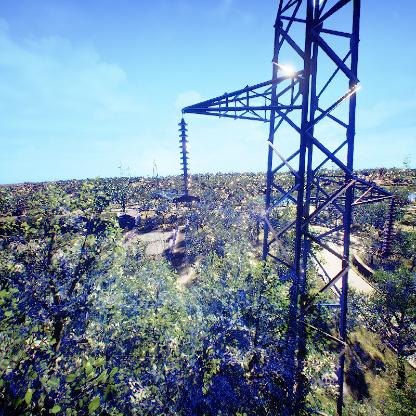insulator: (378, 196, 400, 255), (176, 120, 193, 195)
